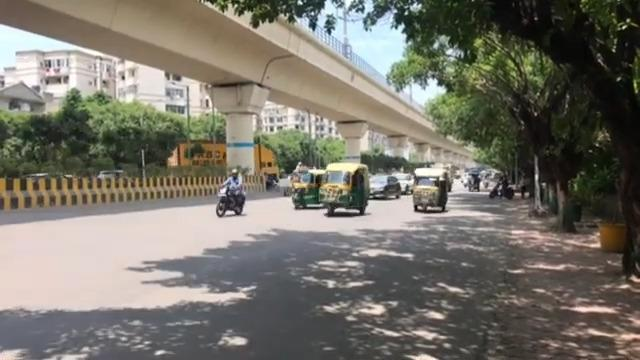Auto: (317, 161, 370, 215), (411, 167, 449, 213)
Bike: (215, 166, 249, 217), (488, 171, 514, 199)
Truck: (166, 139, 279, 187)
